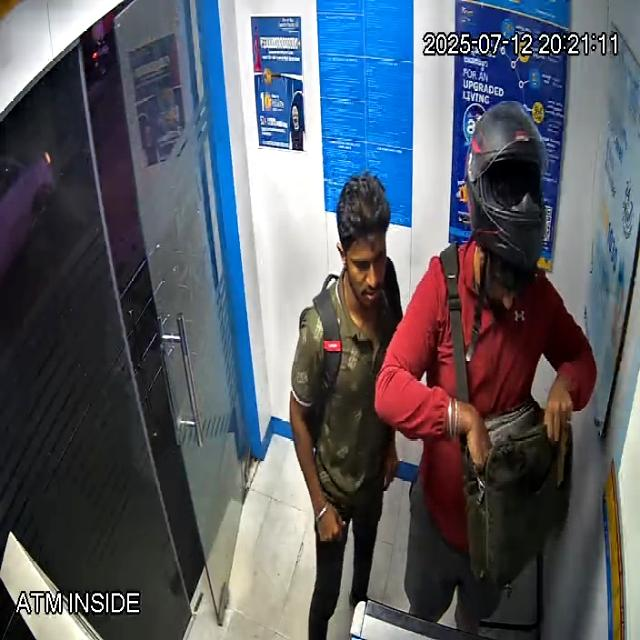helmet: (464, 98, 548, 308)
no_helmet: (336, 175, 391, 317)
